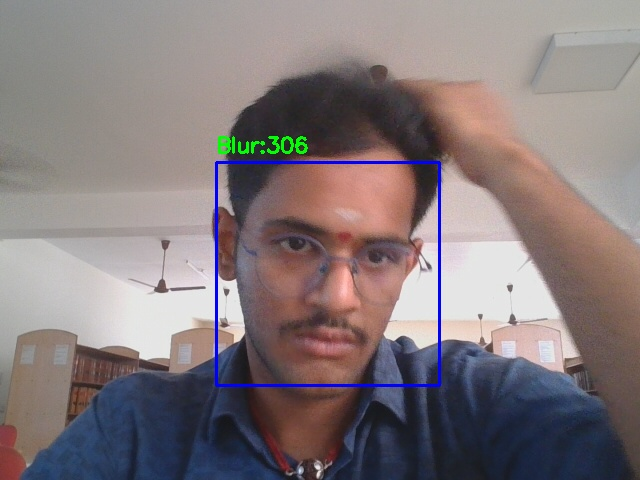real: (216, 162, 439, 385)
